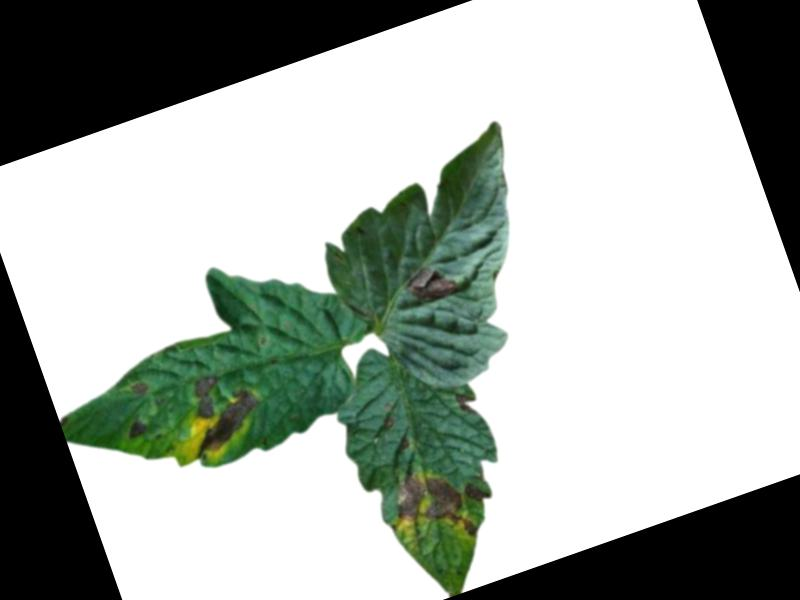Early_blight: (171, 361, 273, 461), (383, 454, 479, 559), (402, 258, 460, 308), (461, 475, 493, 507), (452, 389, 477, 416), (126, 416, 151, 440), (130, 378, 150, 394)
